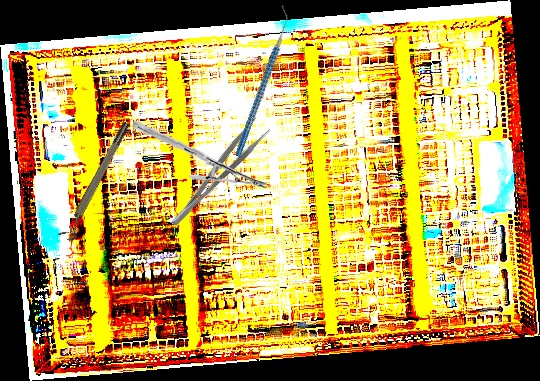Chopper: (190, 4, 332, 159)
Dressing Forceps: (160, 115, 273, 229)
Fixation Ring: (58, 120, 137, 243)
Needle Holder: (132, 111, 268, 199)
